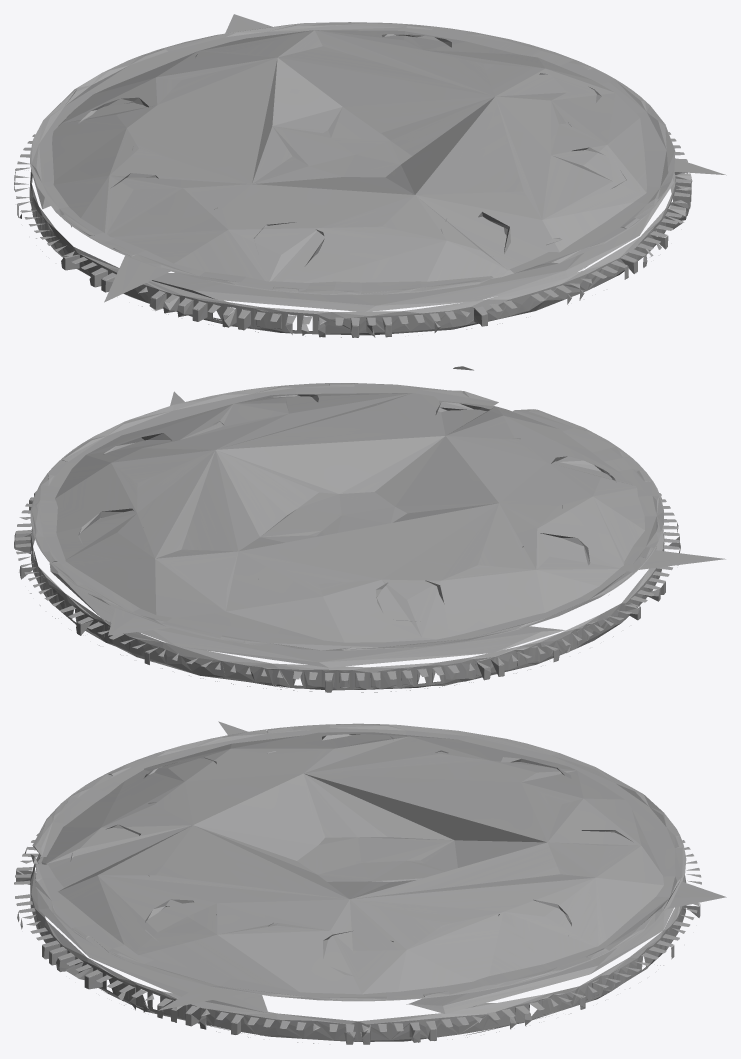
File: engineComponent_flywheel_c01.glb
3 renders of one model, top to bottom at view 1: azimuth 30°, elevation 25°; view 2: azimuth 150°, elevation 25°; view 3: azimuth 270°, elevation 25°, orthographic. The views are drawn at different scales.
Visible parts, largest first — view 1: geometry_0; view 2: geometry_0; view 3: geometry_0.
Part boxes in pixels (x1,y1,x2,y2): geometry_0: [14, 14, 726, 337]; geometry_0: [14, 366, 725, 692]; geometry_0: [14, 721, 726, 1044].
Bounding box in the file's own units: 0.42 × 0.0502 × 0.4173.
Materials: 1 (1 with a texture image).
